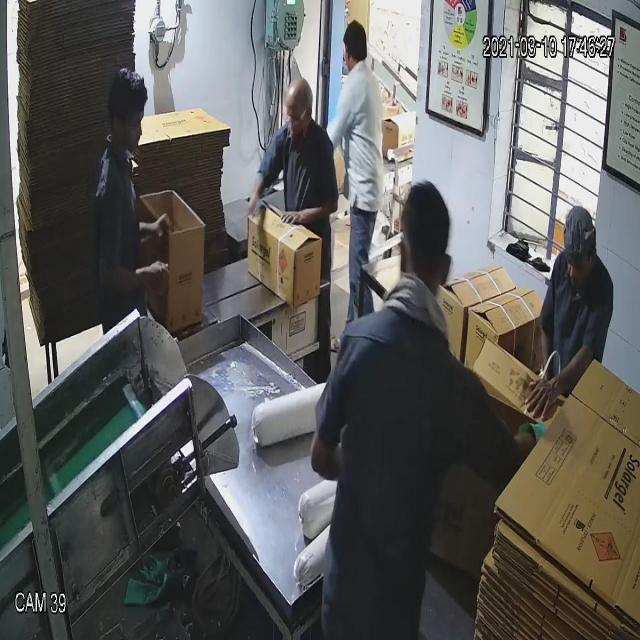No_Gloves: (44, 54, 562, 381)
